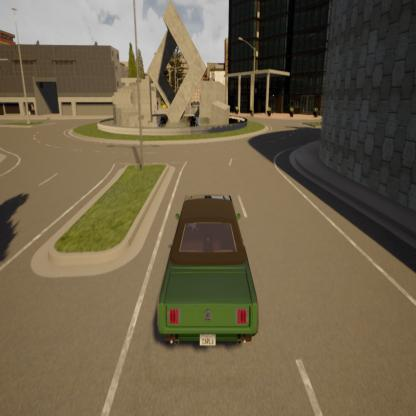Cars: (149, 165, 257, 383)
